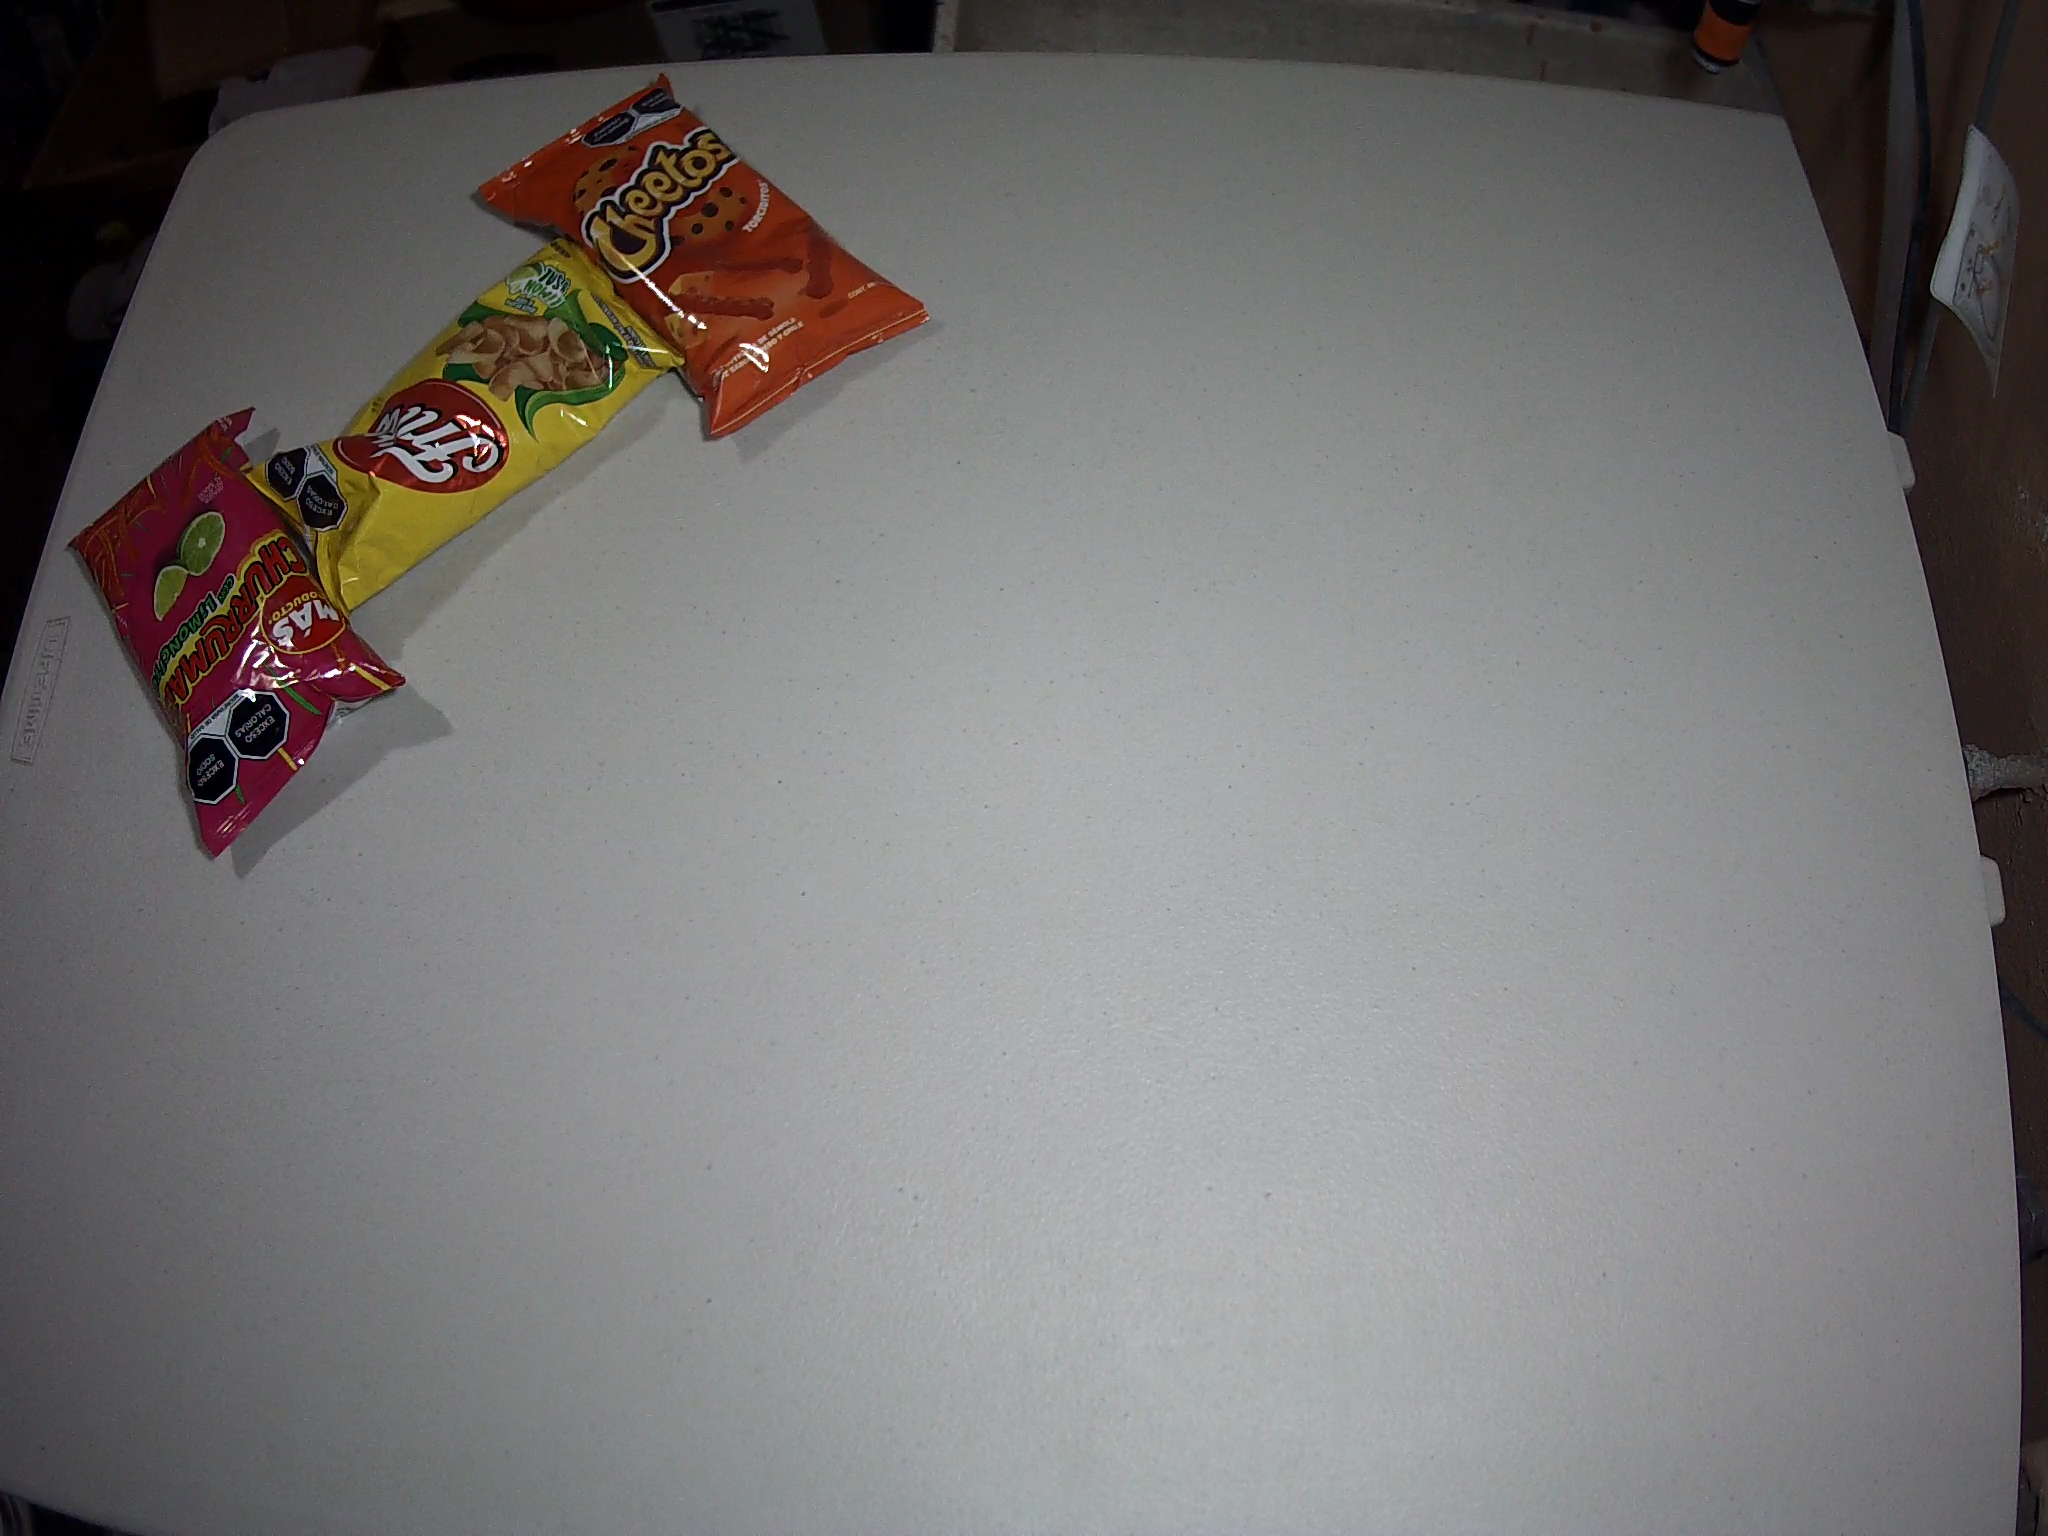CheetosTorciditos_55_F: (476, 74, 932, 437)
Churrumais_70_F: (68, 407, 410, 862)
FritosSalLimon_65_F: (237, 229, 689, 618)
